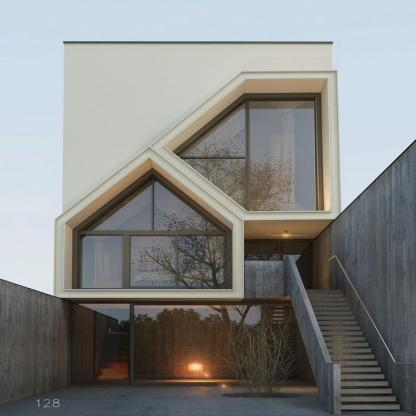Balcony: (245, 220, 340, 290)
Building Outline: (0, 41, 416, 415)
Door: (245, 241, 313, 290)
Facade: (53, 40, 342, 386)
Floor Slab: (58, 289, 292, 299), (231, 212, 338, 218)
Glass Wall: (80, 178, 224, 288), (177, 99, 317, 211), (135, 304, 328, 385), (72, 304, 130, 385)
